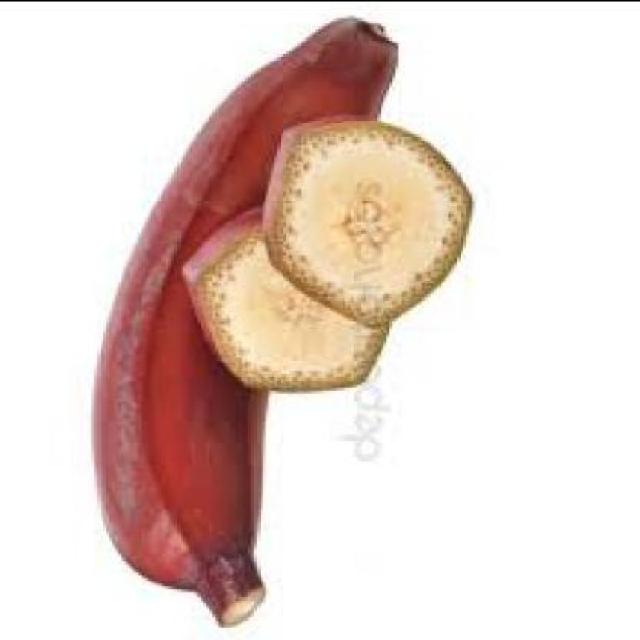BIODEGRADABLE: (88, 20, 395, 626), (256, 116, 475, 322), (174, 203, 398, 394)
